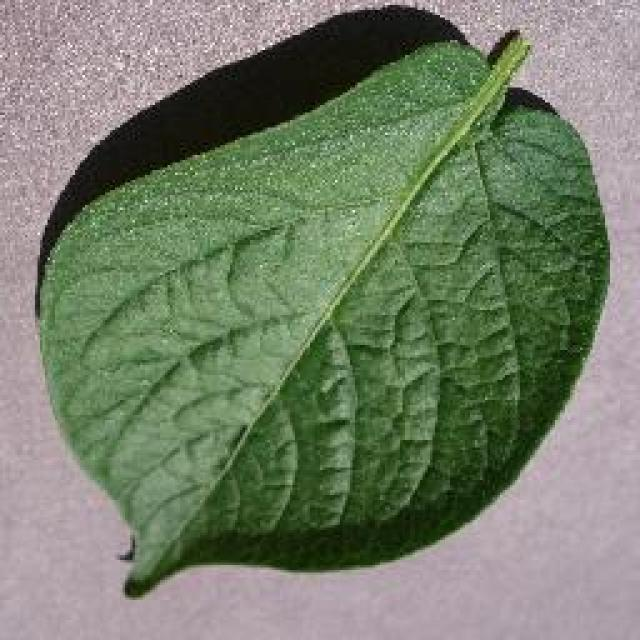Potato___healthy: (36, 31, 612, 601)
